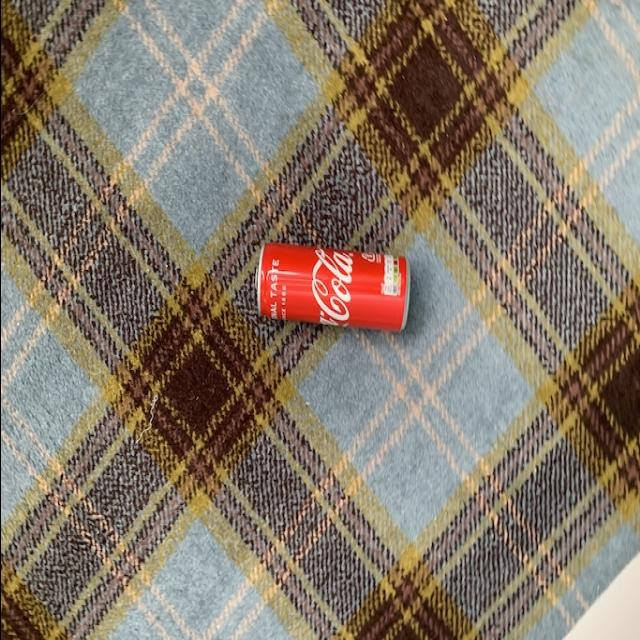litter: (252, 248, 410, 332)
